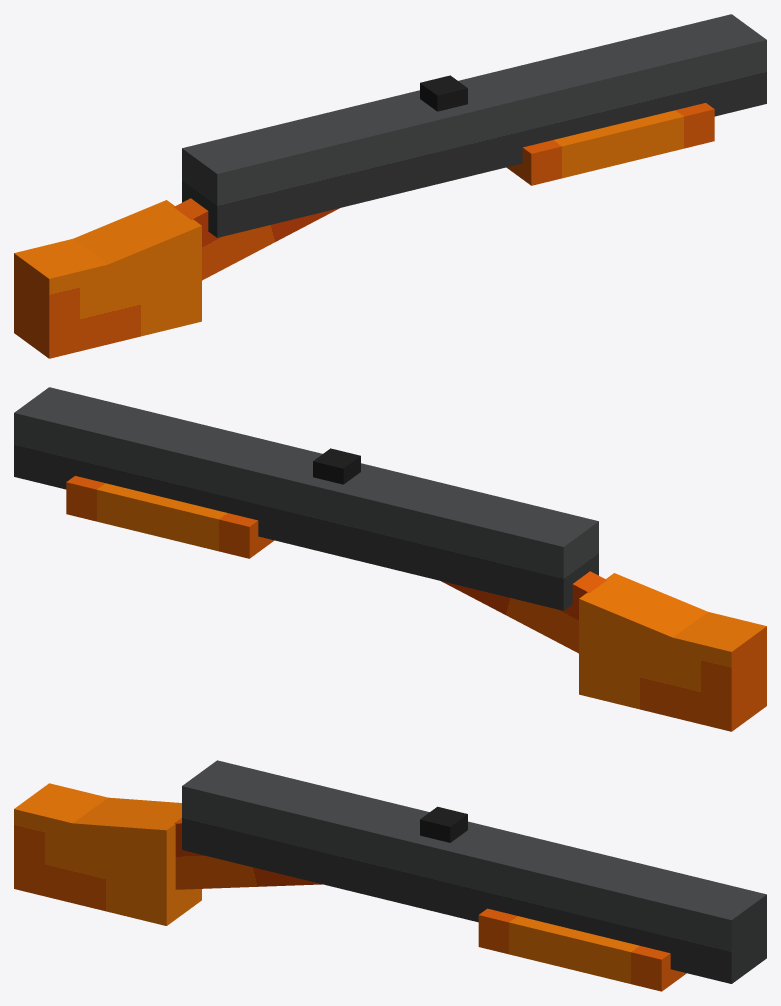
File: espingas.gltf
3 renders of one model, top to bottom at view 1: azimuth 30°, elevation 25°; view 2: azimuth 150°, elevation 25°; view 3: azimuth 330°, elevation 25°, orthographic.
Visible parts, largest first — view 1: slide, handle, dam, grip, sight; view 2: slide, handle, dam, grip, sight; view 3: slide, handle, dam, grip, sight.
Part boxes in pixels (bbox=[...]): slide: bbox=[182, 14, 766, 237]; handle: bbox=[14, 200, 201, 358]; dam: bbox=[506, 103, 714, 185]; grip: bbox=[174, 198, 339, 280]; sight: bbox=[420, 75, 467, 111]; slide: bbox=[14, 387, 598, 610]; handle: bbox=[579, 573, 766, 731]; dam: bbox=[66, 476, 274, 558]; grip: bbox=[441, 571, 606, 653]; sight: bbox=[313, 448, 360, 484]; slide: bbox=[182, 760, 766, 983]; handle: bbox=[14, 783, 201, 925]; dam: bbox=[478, 908, 686, 991]; grip: bbox=[174, 818, 321, 889]; sight: bbox=[420, 806, 467, 842].
Size of the model in its own units: 1.47 by 0.3125 by 0.1875.
5 materials, 5 textured.
